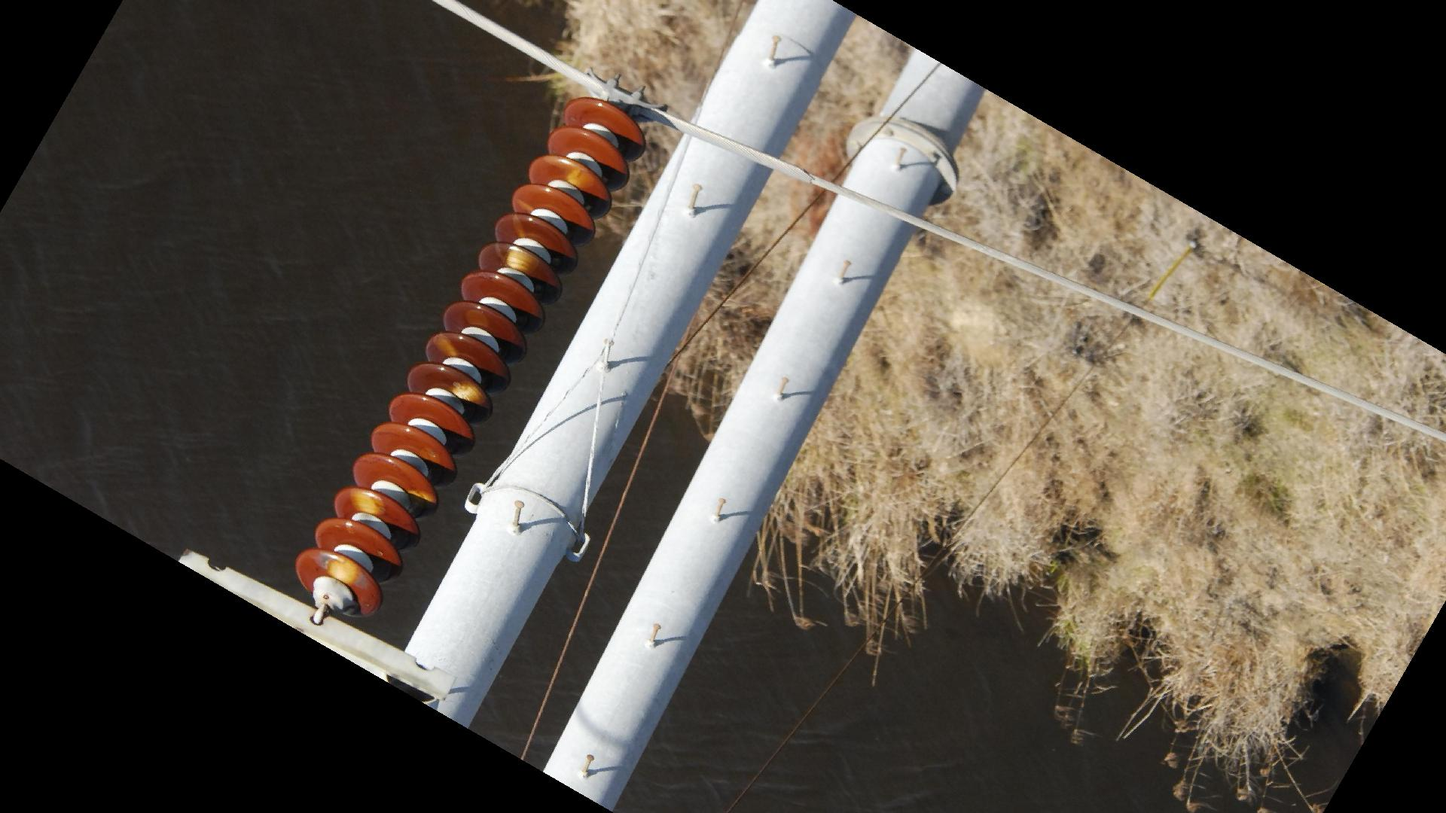insulator: (289, 94, 651, 621)
insulator_flashover: (325, 553, 362, 586), (348, 486, 386, 517), (505, 245, 539, 276), (451, 379, 487, 406), (407, 489, 438, 513), (566, 163, 593, 188), (432, 332, 458, 357)
